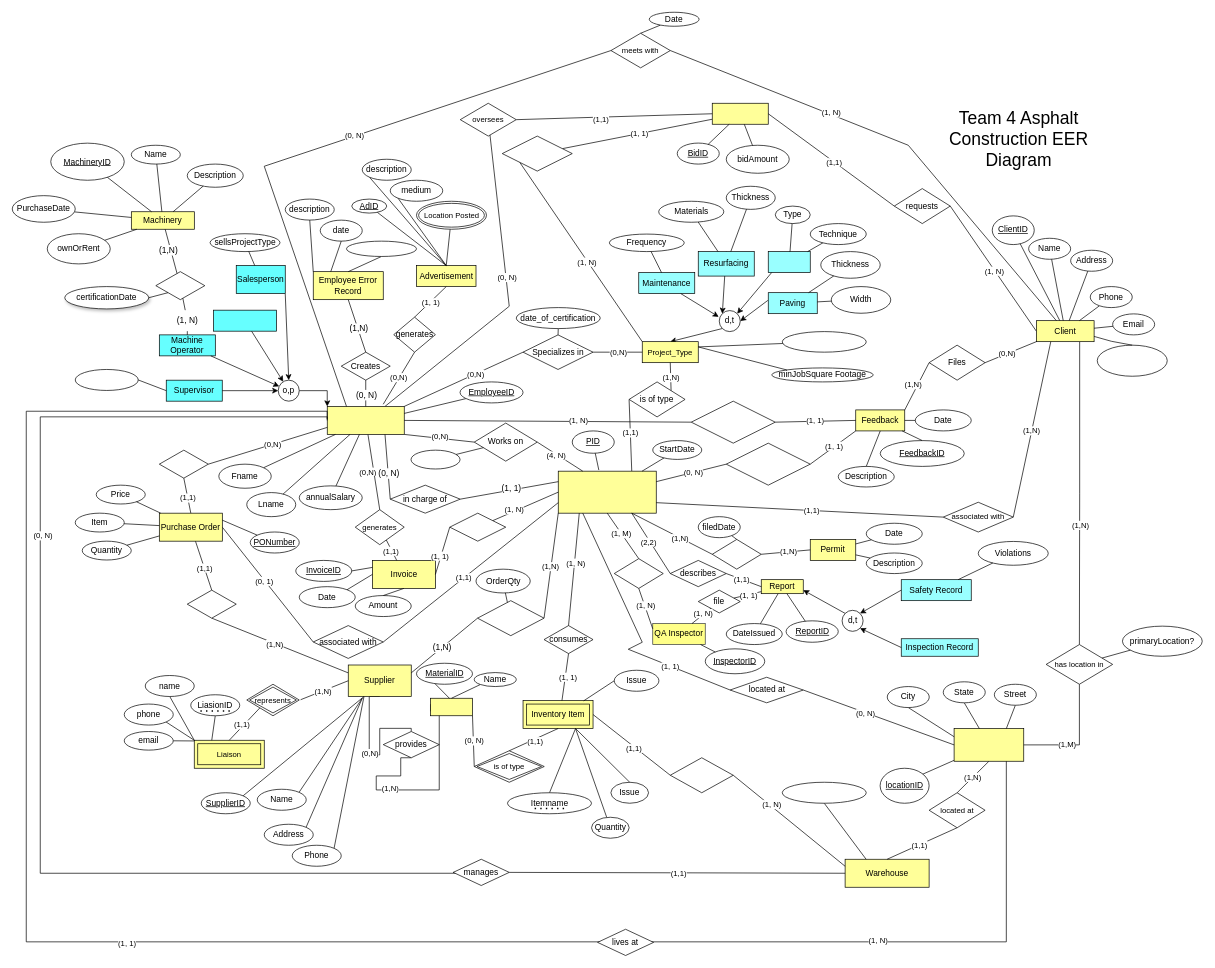
The diagram is 1215 pixels wide and 968 high, and some of its shapes have lost their labels. The centre of each missing label's shape, as x and y in pixels:
Asphalt Layer: [244,320]
associated: [477,526]
Bid: [740,113]
ClientImportance: [1132,360]
Duration: [435,459]
Employee: [365,420]
ErrorRecordID: [381,248]
filed for: [736,554]
inspects: [638,573]
Location: [988,744]
made for: [537,153]
Material: [451,707]
Operates: [180,285]
places: [183,463]
Project: [607,491]
ProjectTypeName: [824,341]
provides materials: [510,618]
reads: [733,421]
receives: [211,603]
related to: [768,463]
Repair: [789,262]
Store: [701,775]
SuperviseeID: [106,379]
WarehouseID: [824,792]
